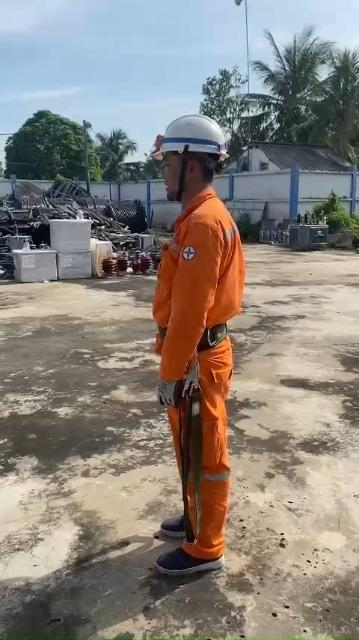gloves: (146, 368, 195, 411)
harness: (144, 307, 239, 354)
helmet: (137, 107, 246, 173)
shoes: (130, 492, 238, 537), (147, 536, 238, 580)
